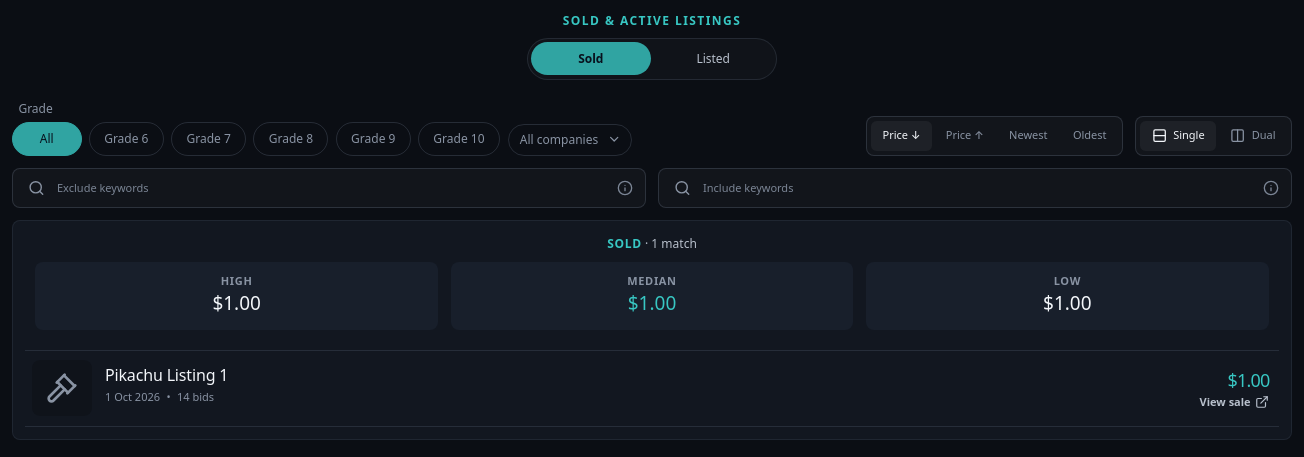
shows a bid count when the listing has one
The width and height of the screenshot is (1304, 457).
expect the text "14 bids" is shown: met, box [177, 390, 214, 404]
expect the text "1 bid" is not shown: met
Click the radio button labelled "Listed" at x=713, y=58, box [696, 50, 730, 67]
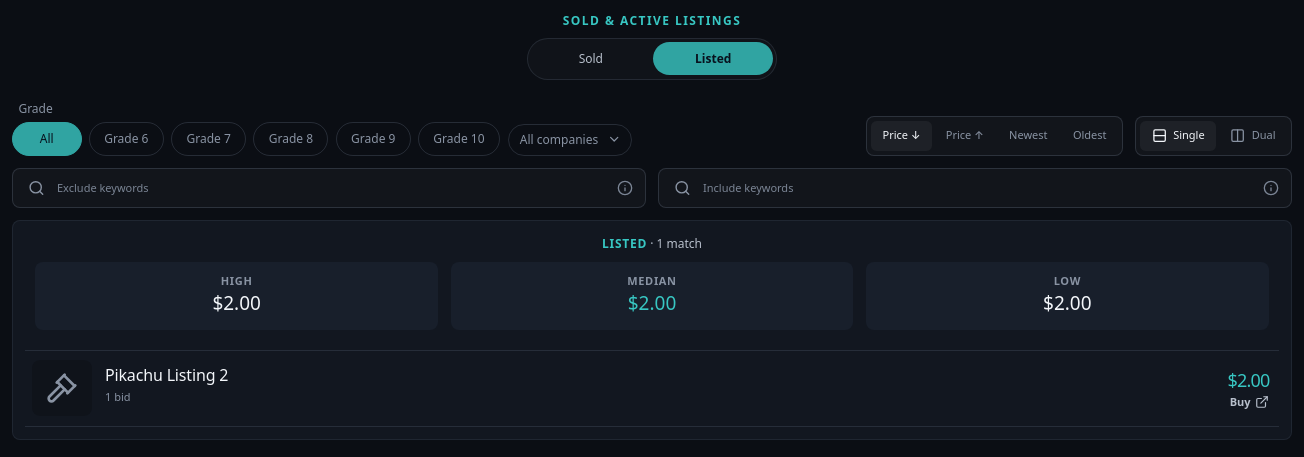
expect the text "1 bid" is shown: met, box [105, 390, 130, 405]
